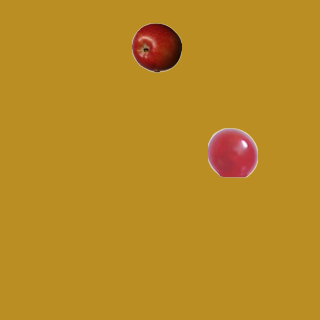Apple Braeburn: (131, 22, 181, 72)
Redcurrant: (207, 127, 257, 177)
